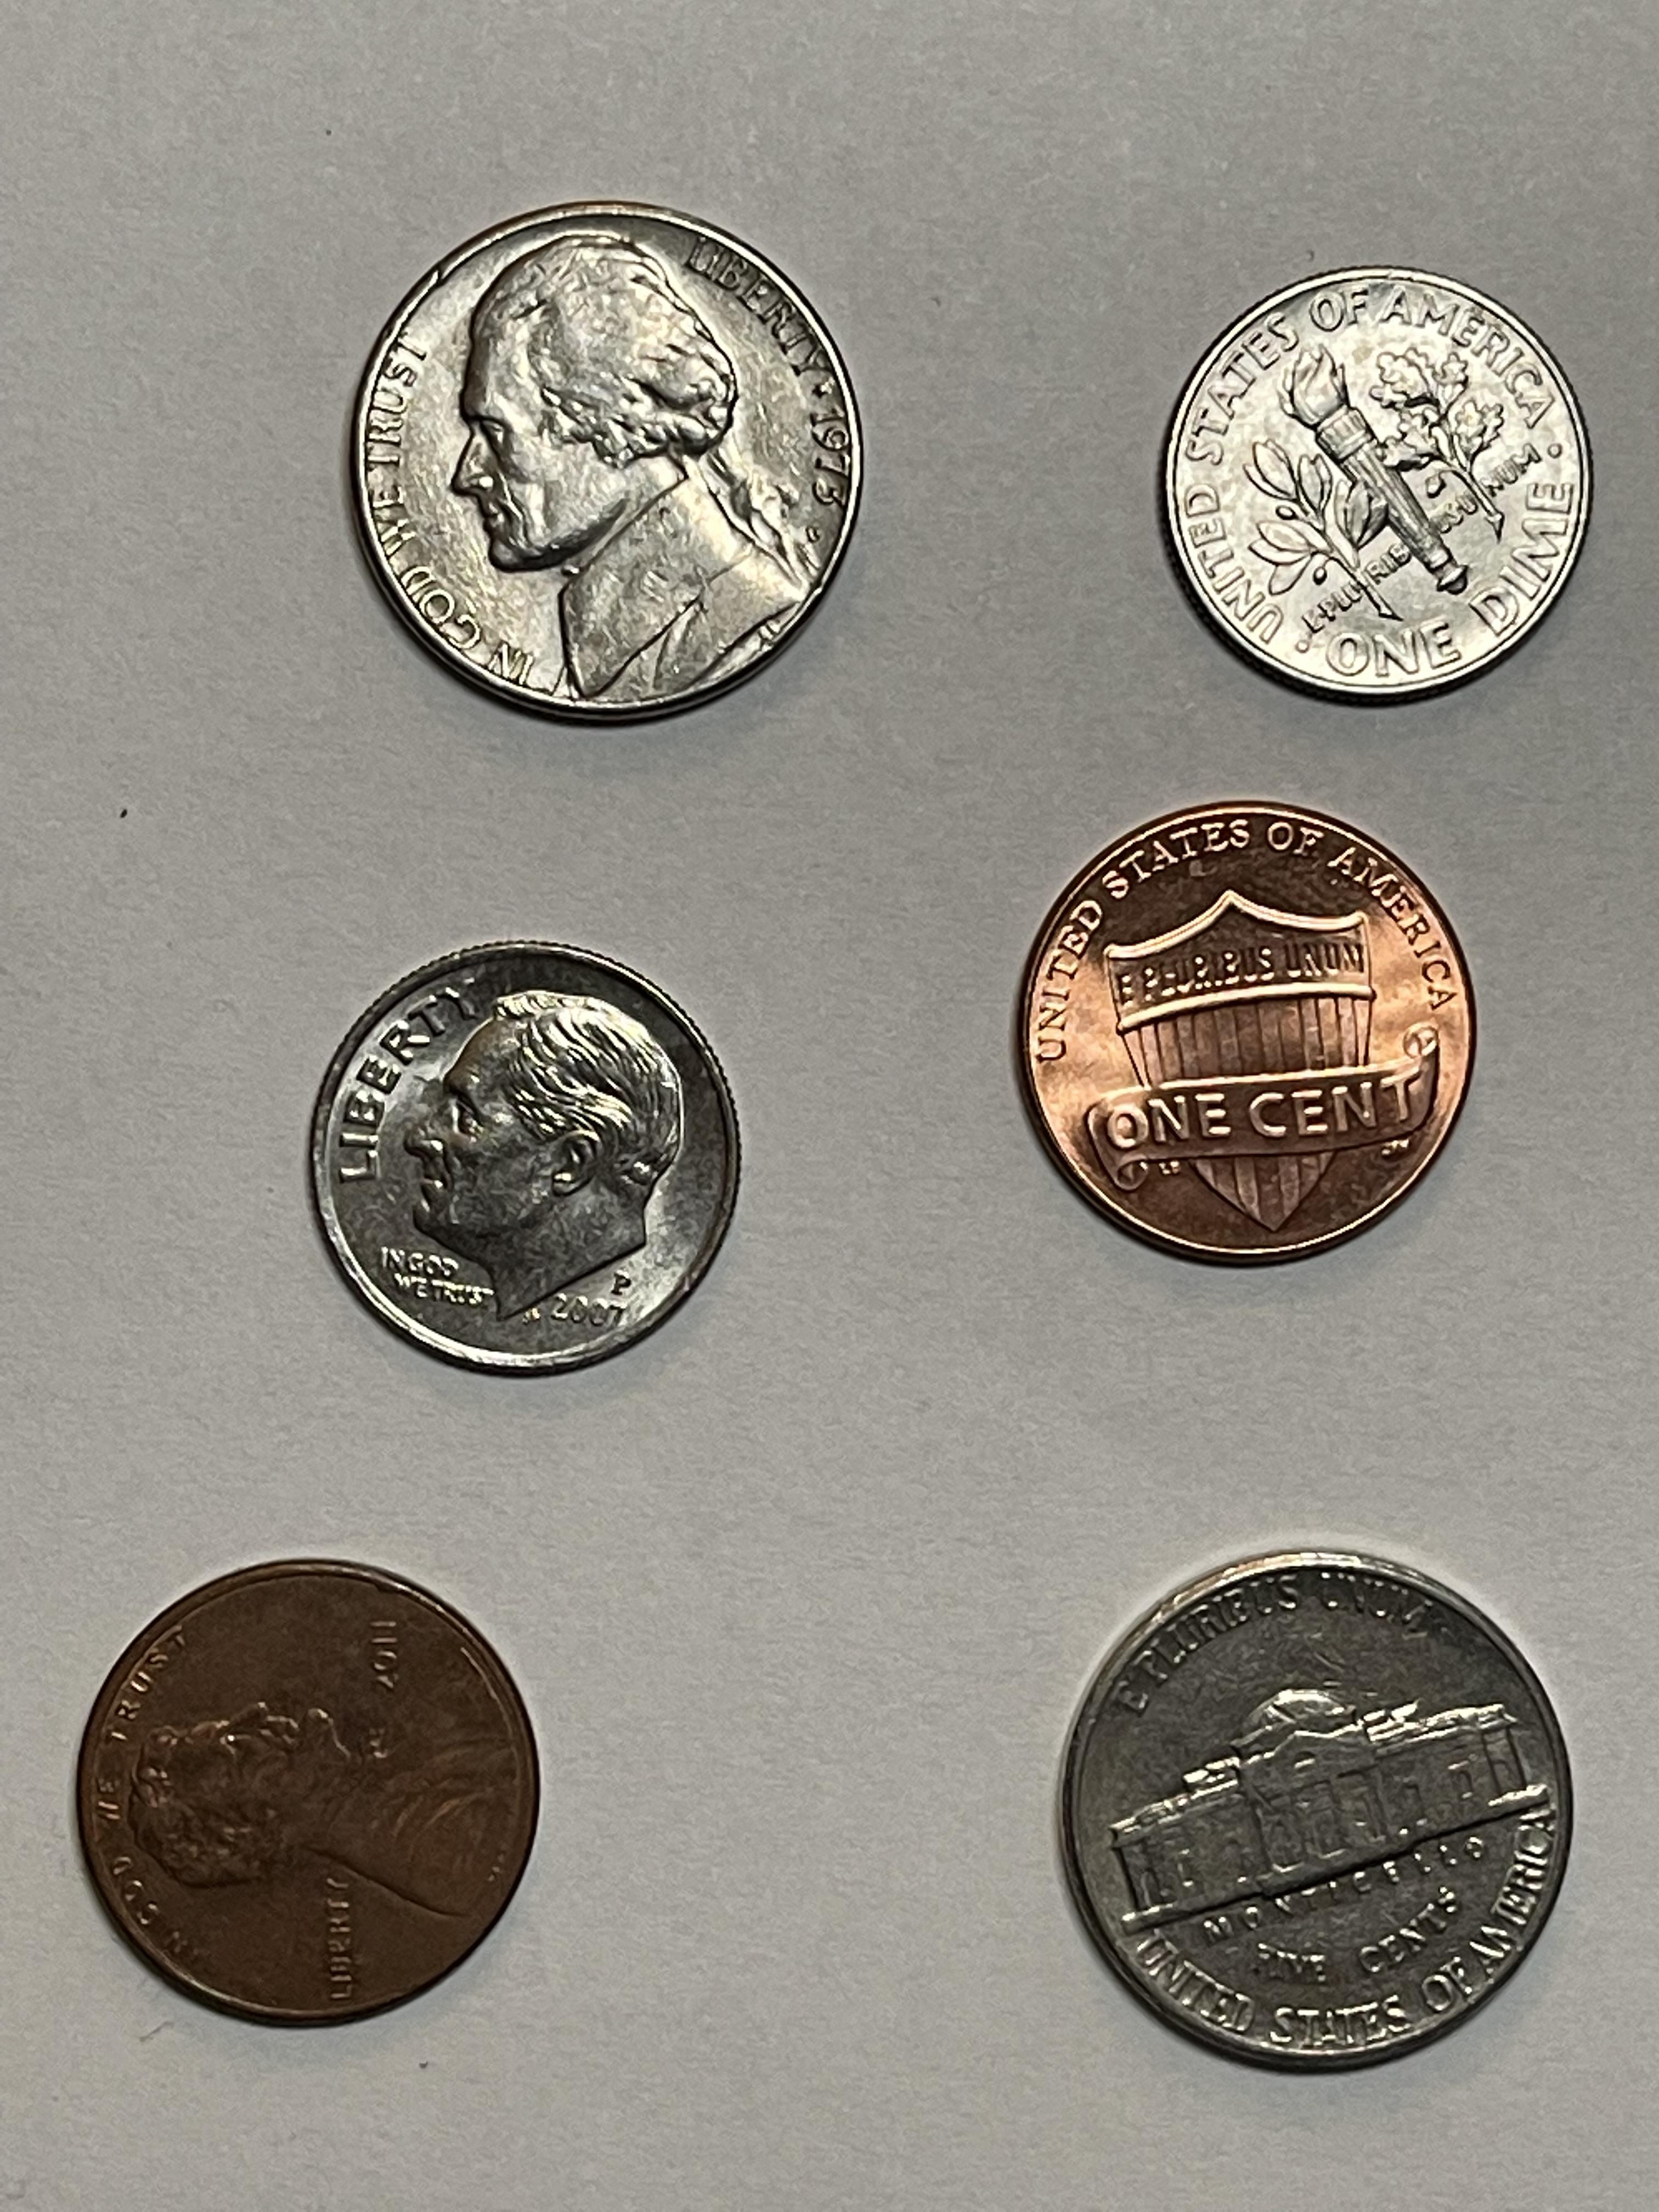Dime: (305, 937, 744, 1378), (1161, 263, 1595, 700)
Nickel: (1054, 1547, 1579, 2078), (347, 197, 866, 728)
Penny: (73, 1555, 542, 2033), (1014, 796, 1480, 1273)
